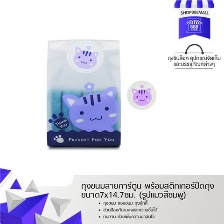snack: (36, 32, 127, 155)
